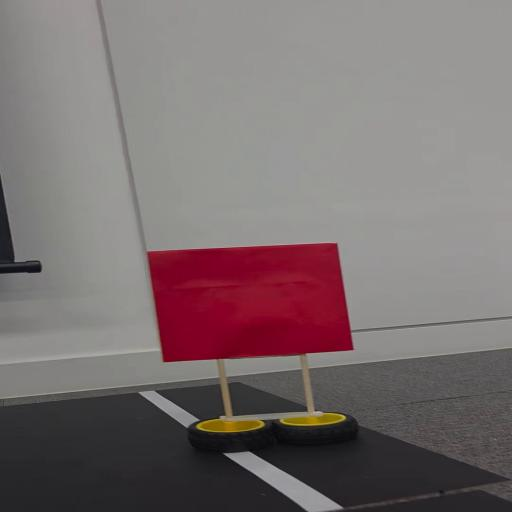Sign_A: (133, 238, 366, 461)
